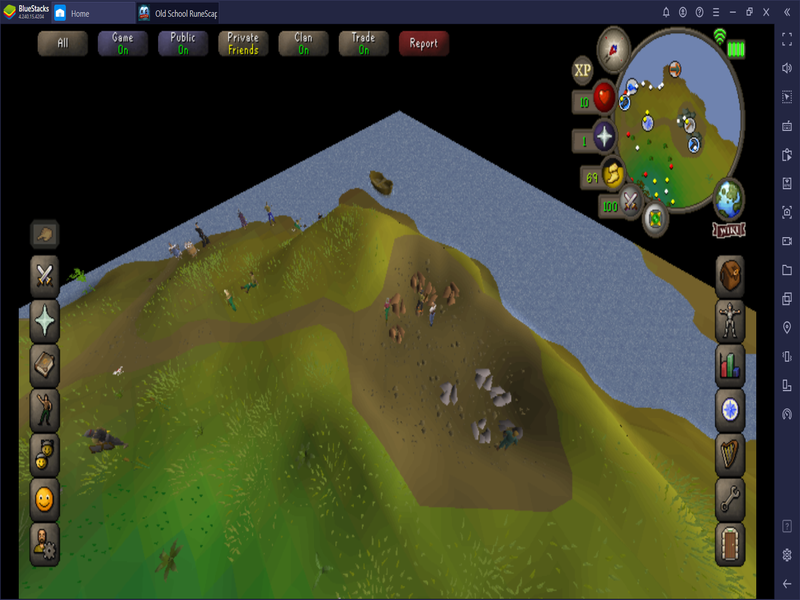copper_rock_1: (388, 322, 409, 343)
copper_rock_2: (388, 294, 411, 316)
